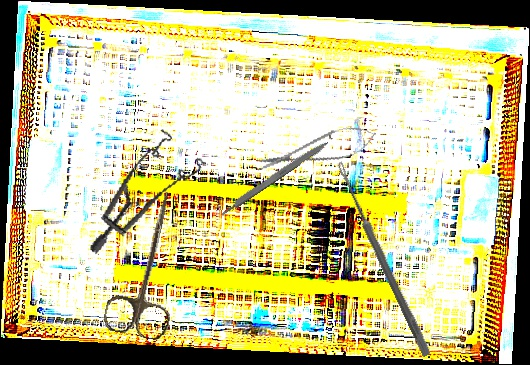Iris Scissors: (101, 184, 196, 343)
Micro Scissor: (253, 119, 380, 181)
Scalpel Handle: (218, 137, 330, 218)
Speculum: (88, 117, 212, 276)
Surgical Spoon: (333, 160, 433, 358)
